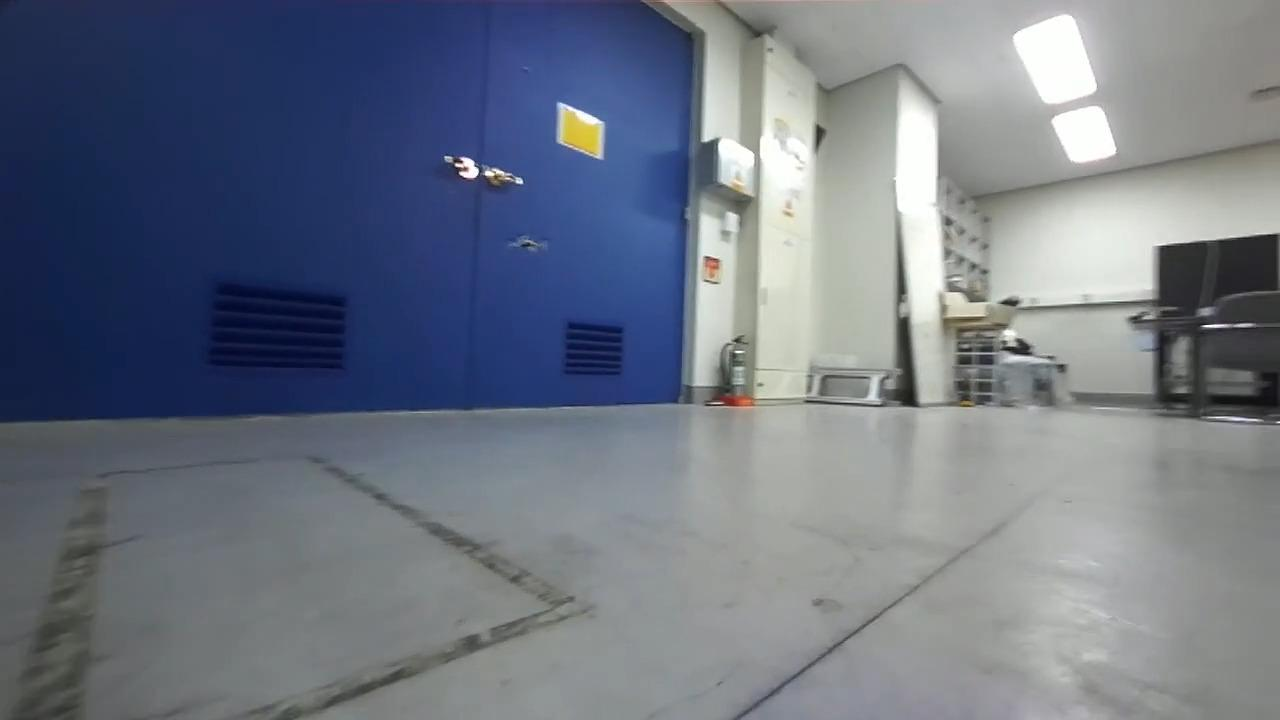crazyflie: (503, 229, 553, 259)
